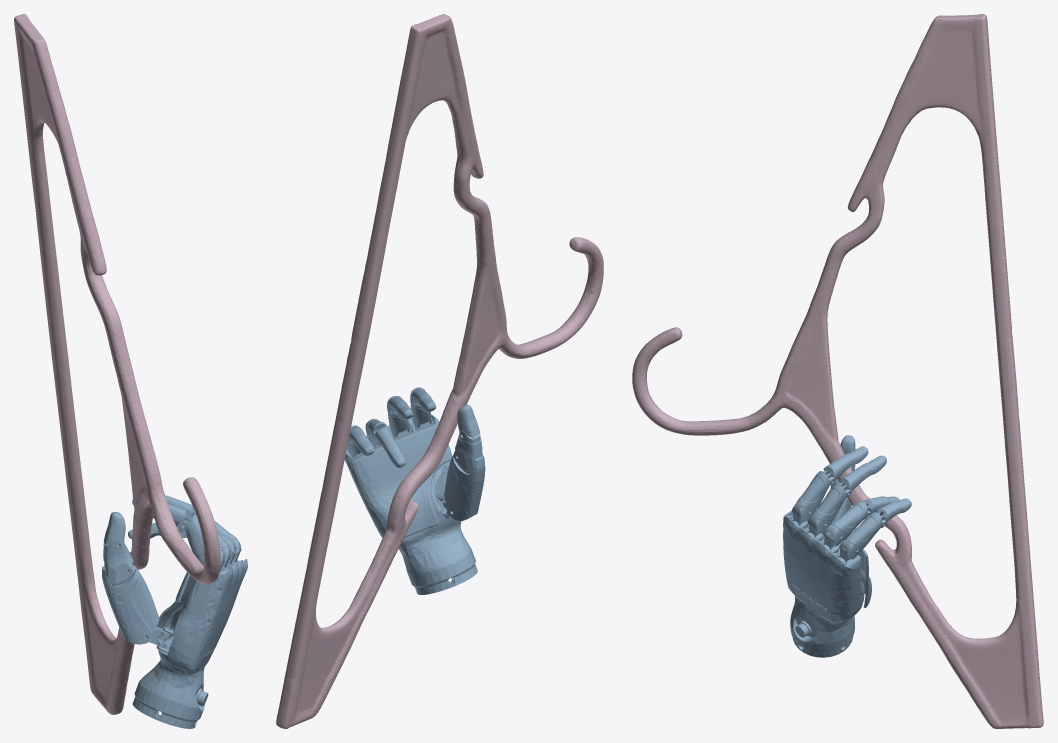
3 renders of one model, left to right at view 1: azimuth 30°, elevation 25°; view 2: azimuth 150°, elevation 25°; view 3: azimuth 270°, elevation 25°, orthographic. The views are drawn at different scales.
Parts seen in each view (by area): view 1: obj_mesh_grasp_5.obj, world; view 2: obj_mesh_grasp_5.obj, world; view 3: obj_mesh_grasp_5.obj, world.
Boxes of the visible parts, <box> form: obj_mesh_grasp_5.obj: <box>14,14,220,714</box>; world: <box>102,495,247,728</box>; obj_mesh_grasp_5.obj: <box>276,14,603,728</box>; world: <box>344,387,485,594</box>; obj_mesh_grasp_5.obj: <box>632,14,1043,728</box>; world: <box>783,435,911,657</box>.
Size of the model in its own units: 0.1444 by 0.6253 by 0.3492.
